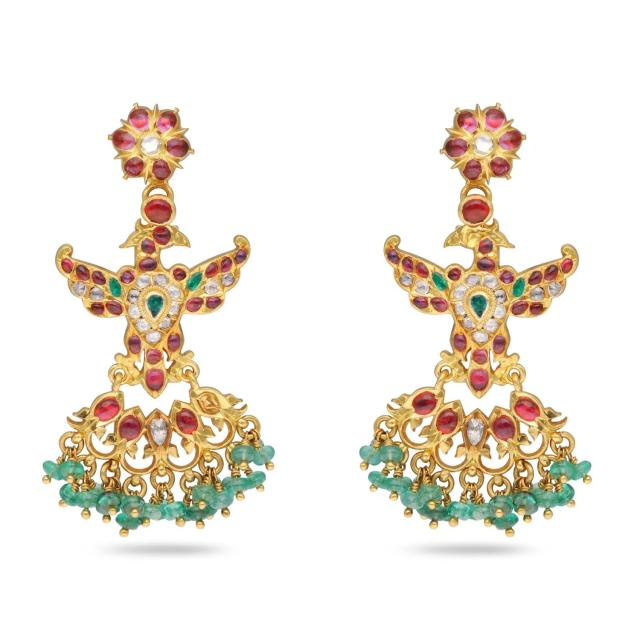missing gem: (197, 393, 220, 414), (463, 230, 479, 246)
